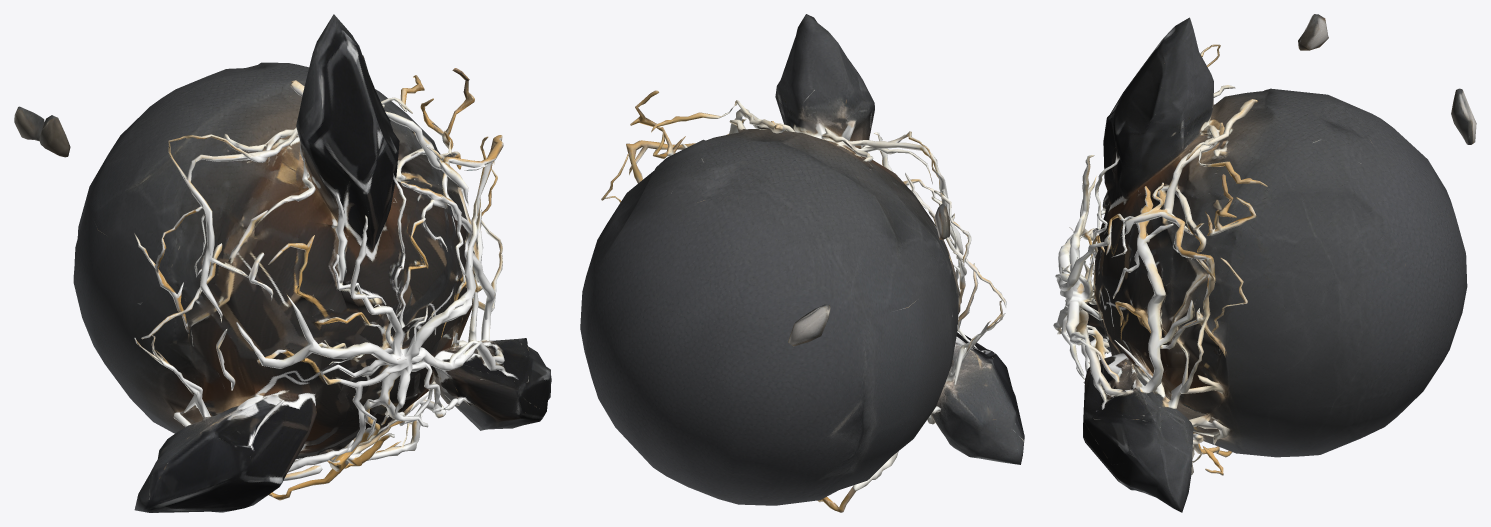
File: scintilla_del_keth.glb
The picture shows the model from 3 angles, left to right: view 1: azimuth 30°, elevation 25°; view 2: azimuth 150°, elevation 25°; view 3: azimuth 270°, elevation 25°; orthographic projection. The views are drawn at different scales.
Parts seen in each view (by area): view 1: mesh_node; view 2: mesh_node; view 3: mesh_node.
Part boxes in pixels (<box>): mesh_node: <box>14,14,551,512</box>; mesh_node: <box>580,14,1024,512</box>; mesh_node: <box>1053,14,1476,512</box>.
Size of the model in its own units: 1.66 by 1.81 by 1.52.
Materials: 1 (1 with a texture image).
